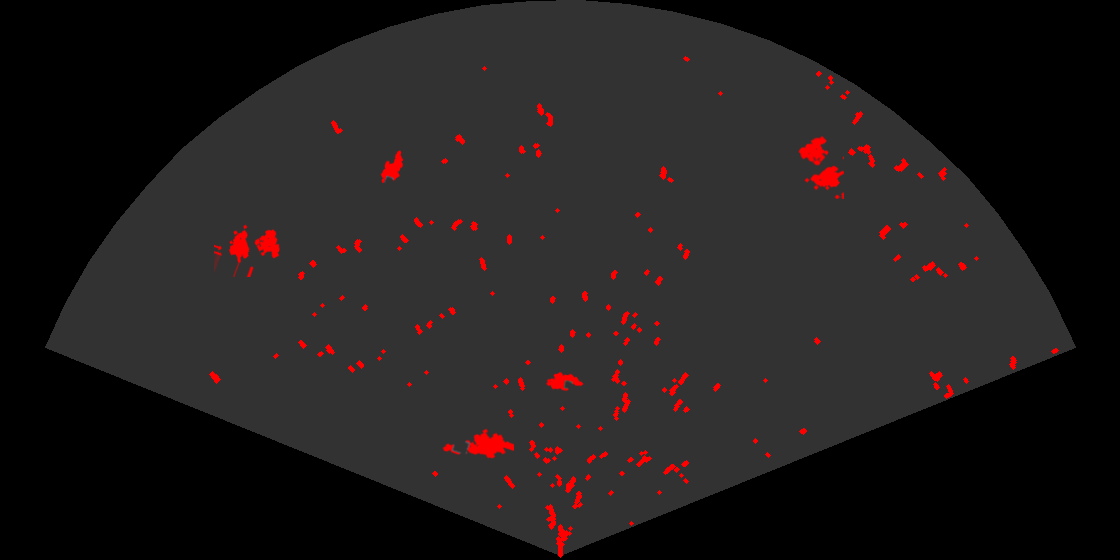AUV: (379, 148, 405, 185), (544, 370, 585, 393)
cage: (214, 223, 282, 277), (797, 134, 844, 199)
frogman: (441, 427, 514, 460)
